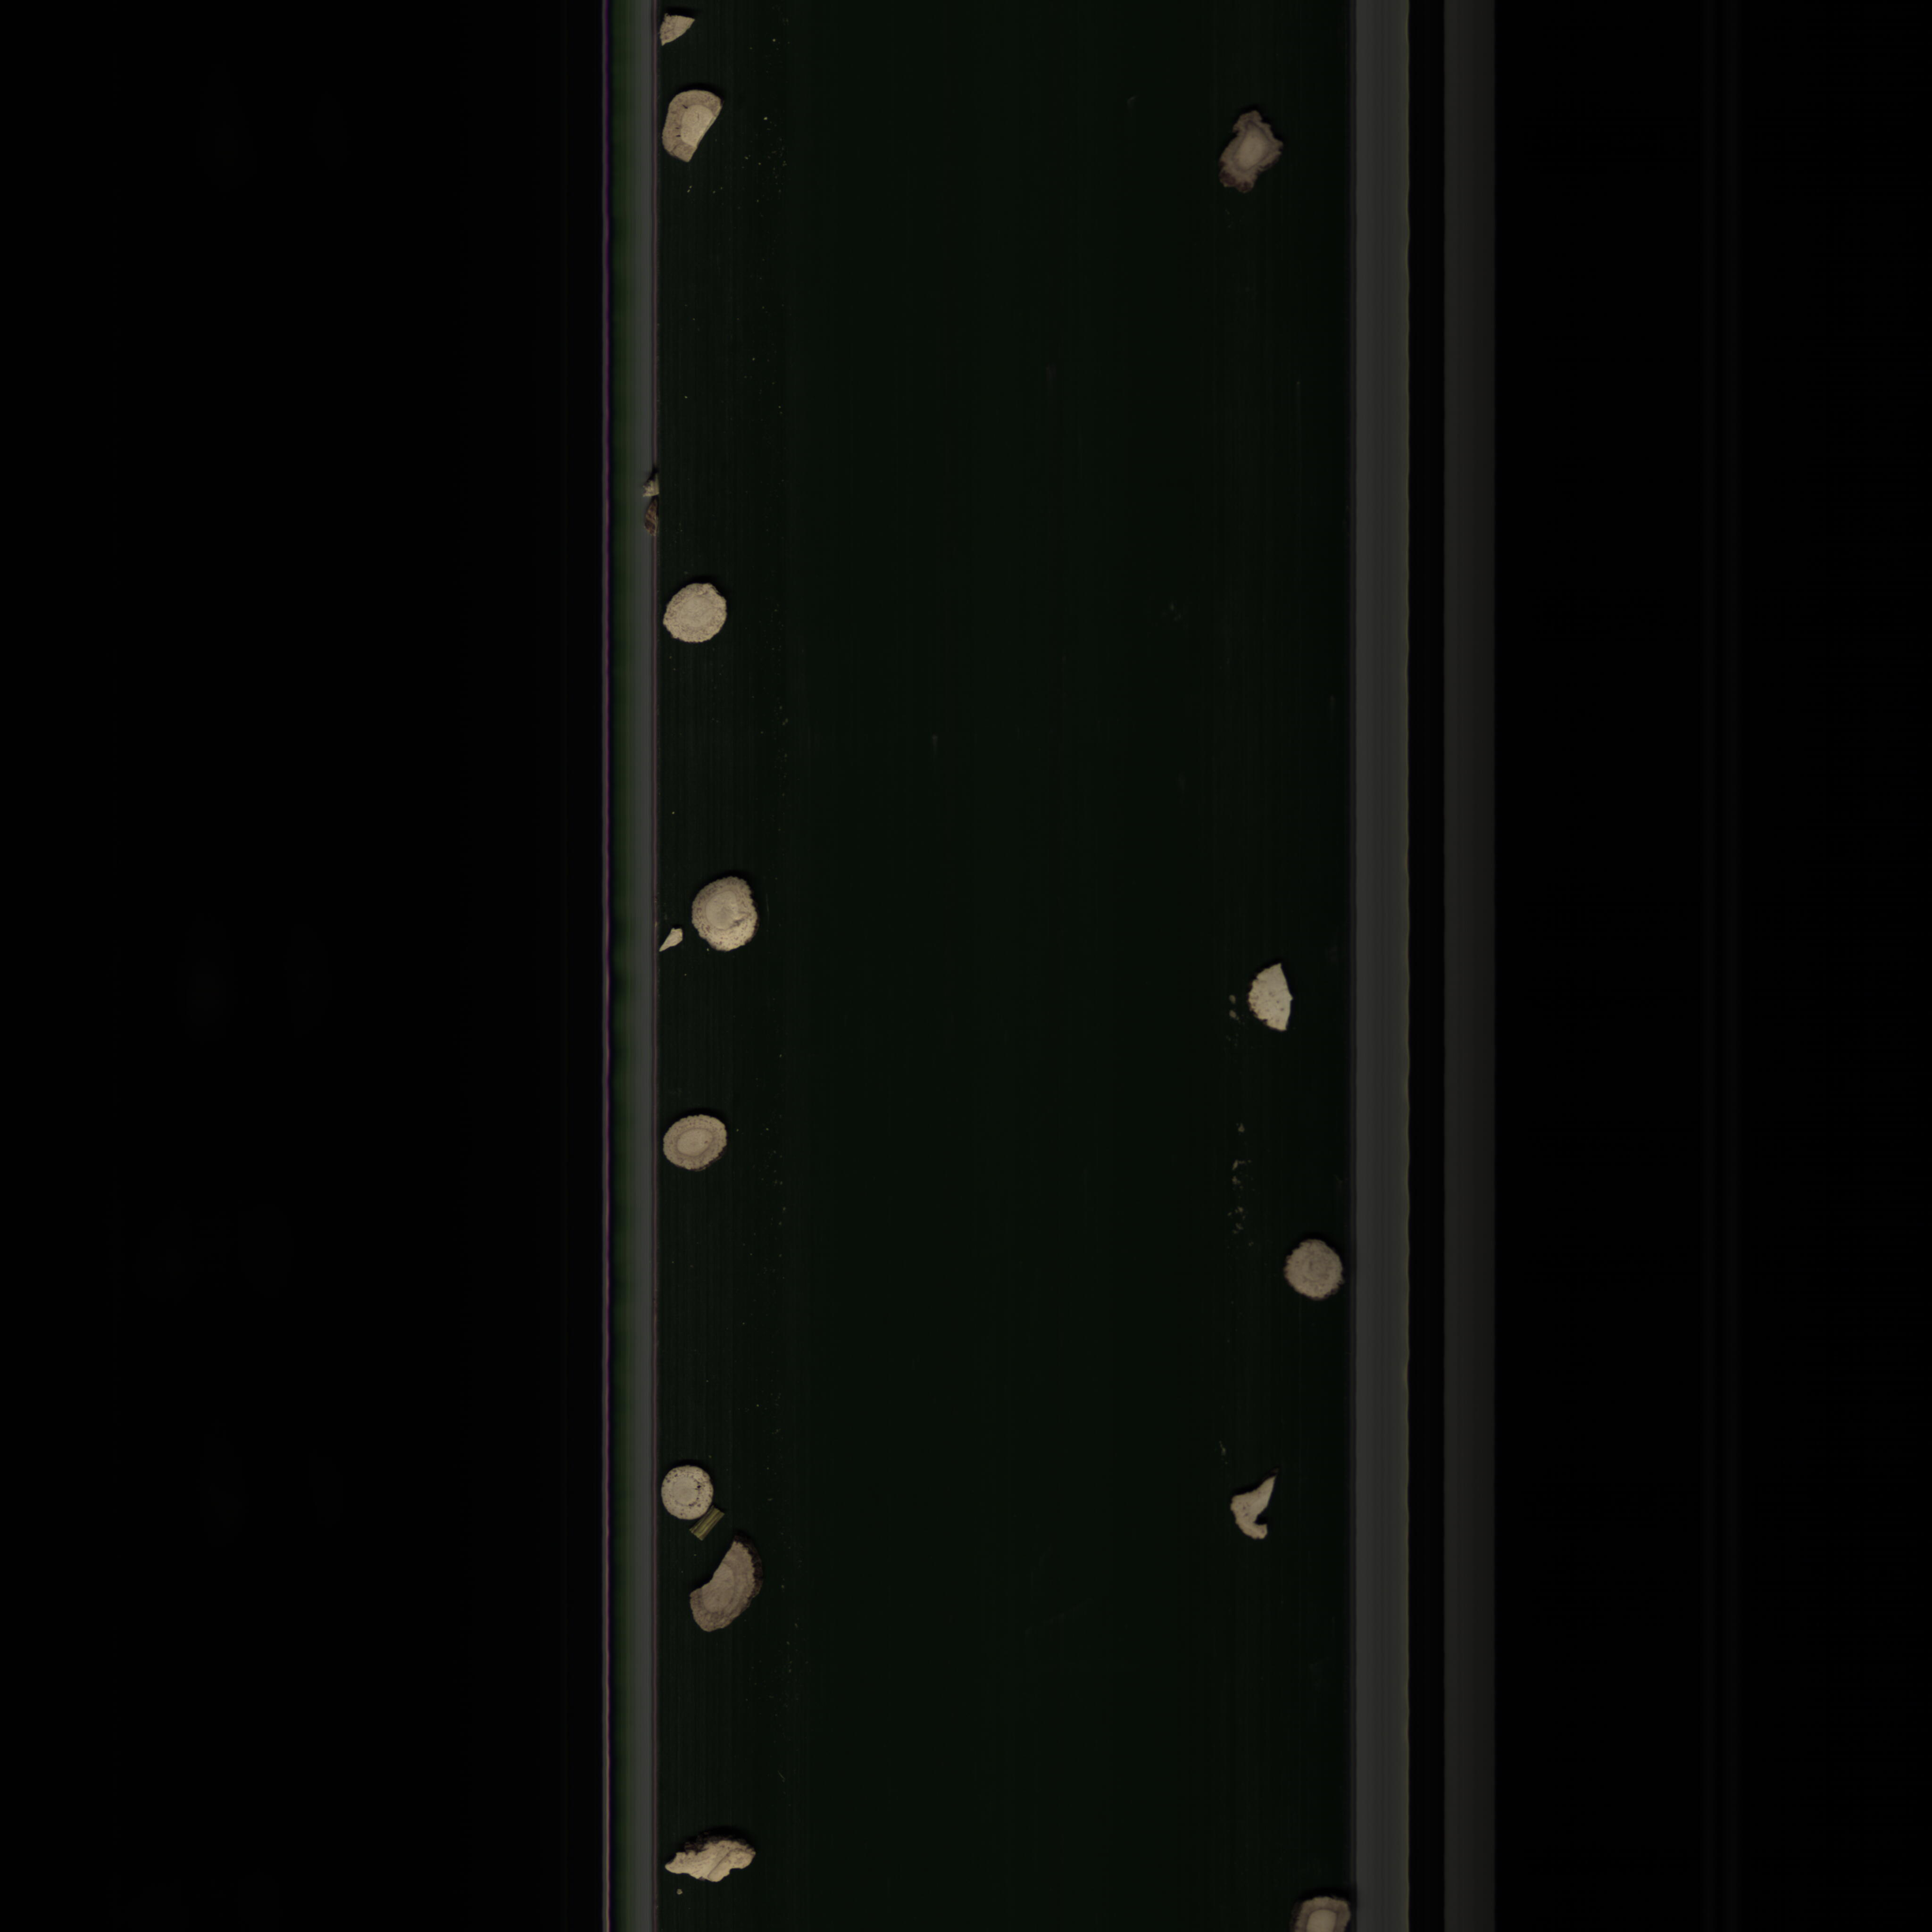bark: (1224, 101, 1279, 209)
debris: (685, 1539, 763, 1640), (658, 90, 725, 188), (662, 1836, 757, 1900), (1247, 954, 1306, 1044), (1231, 1467, 1283, 1552)
